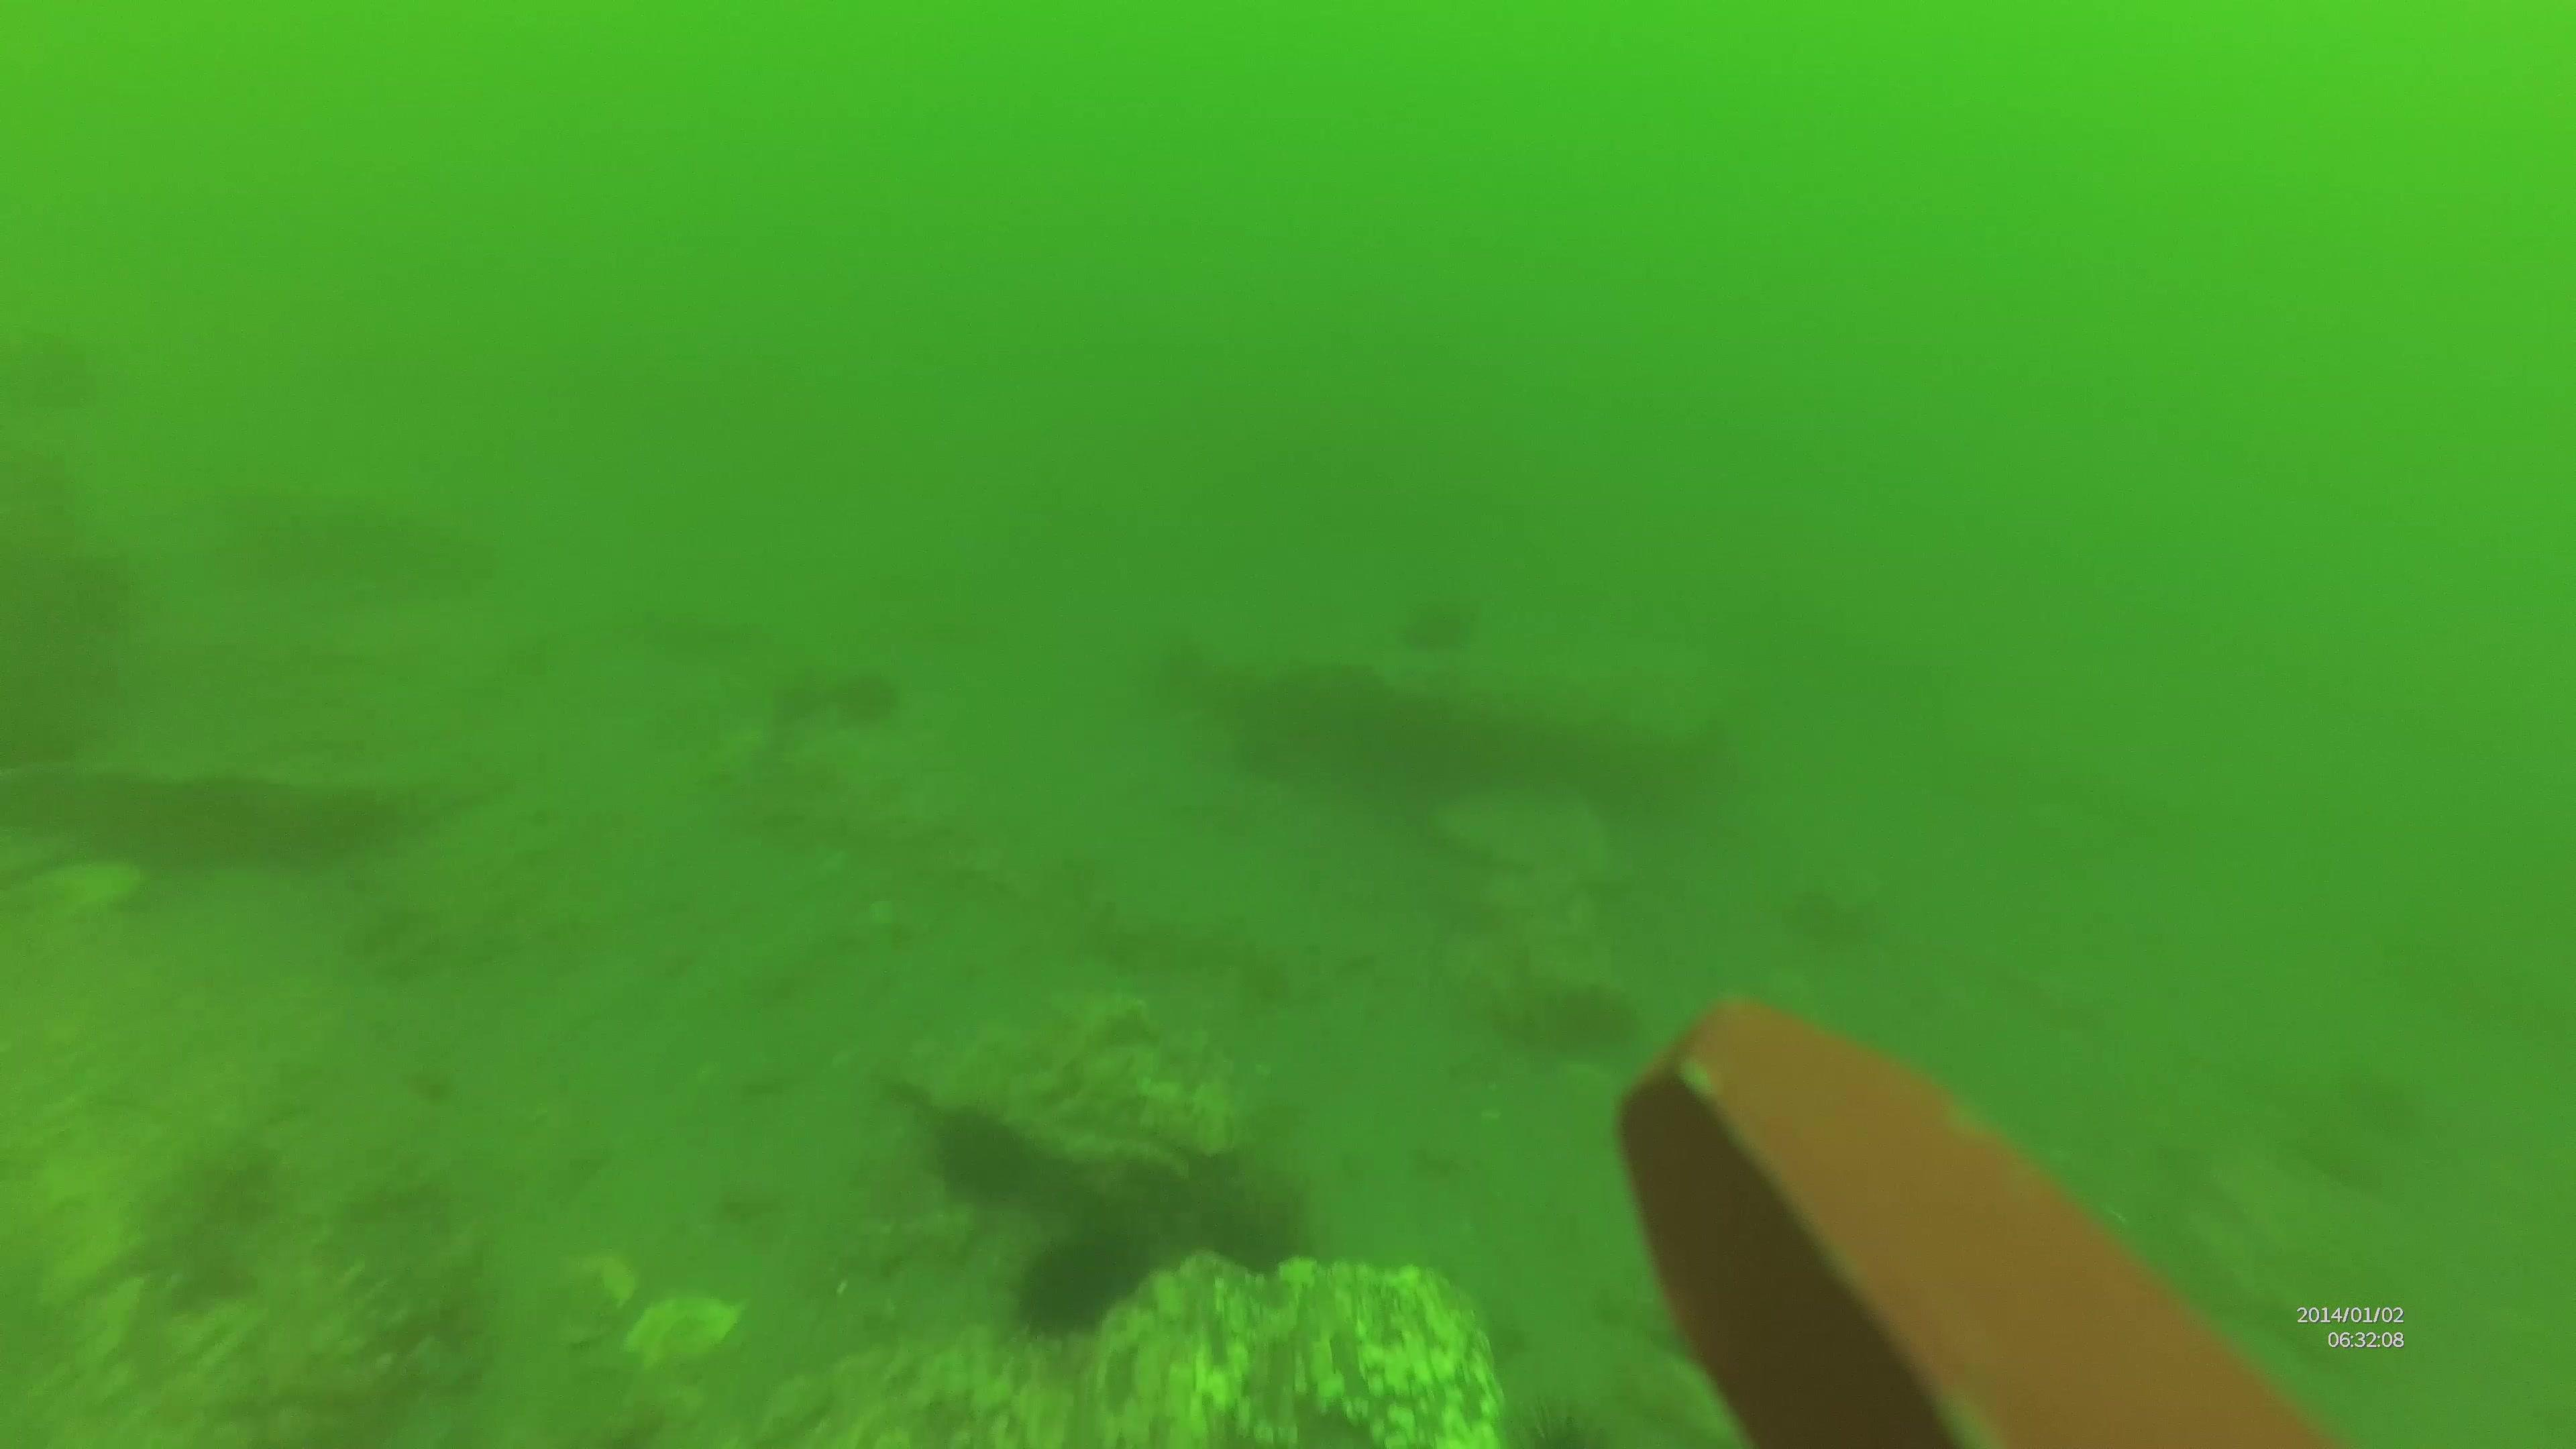echinus: (1007, 1230, 1145, 1336), (931, 1102, 1033, 1212), (1207, 1185, 1302, 1277)
